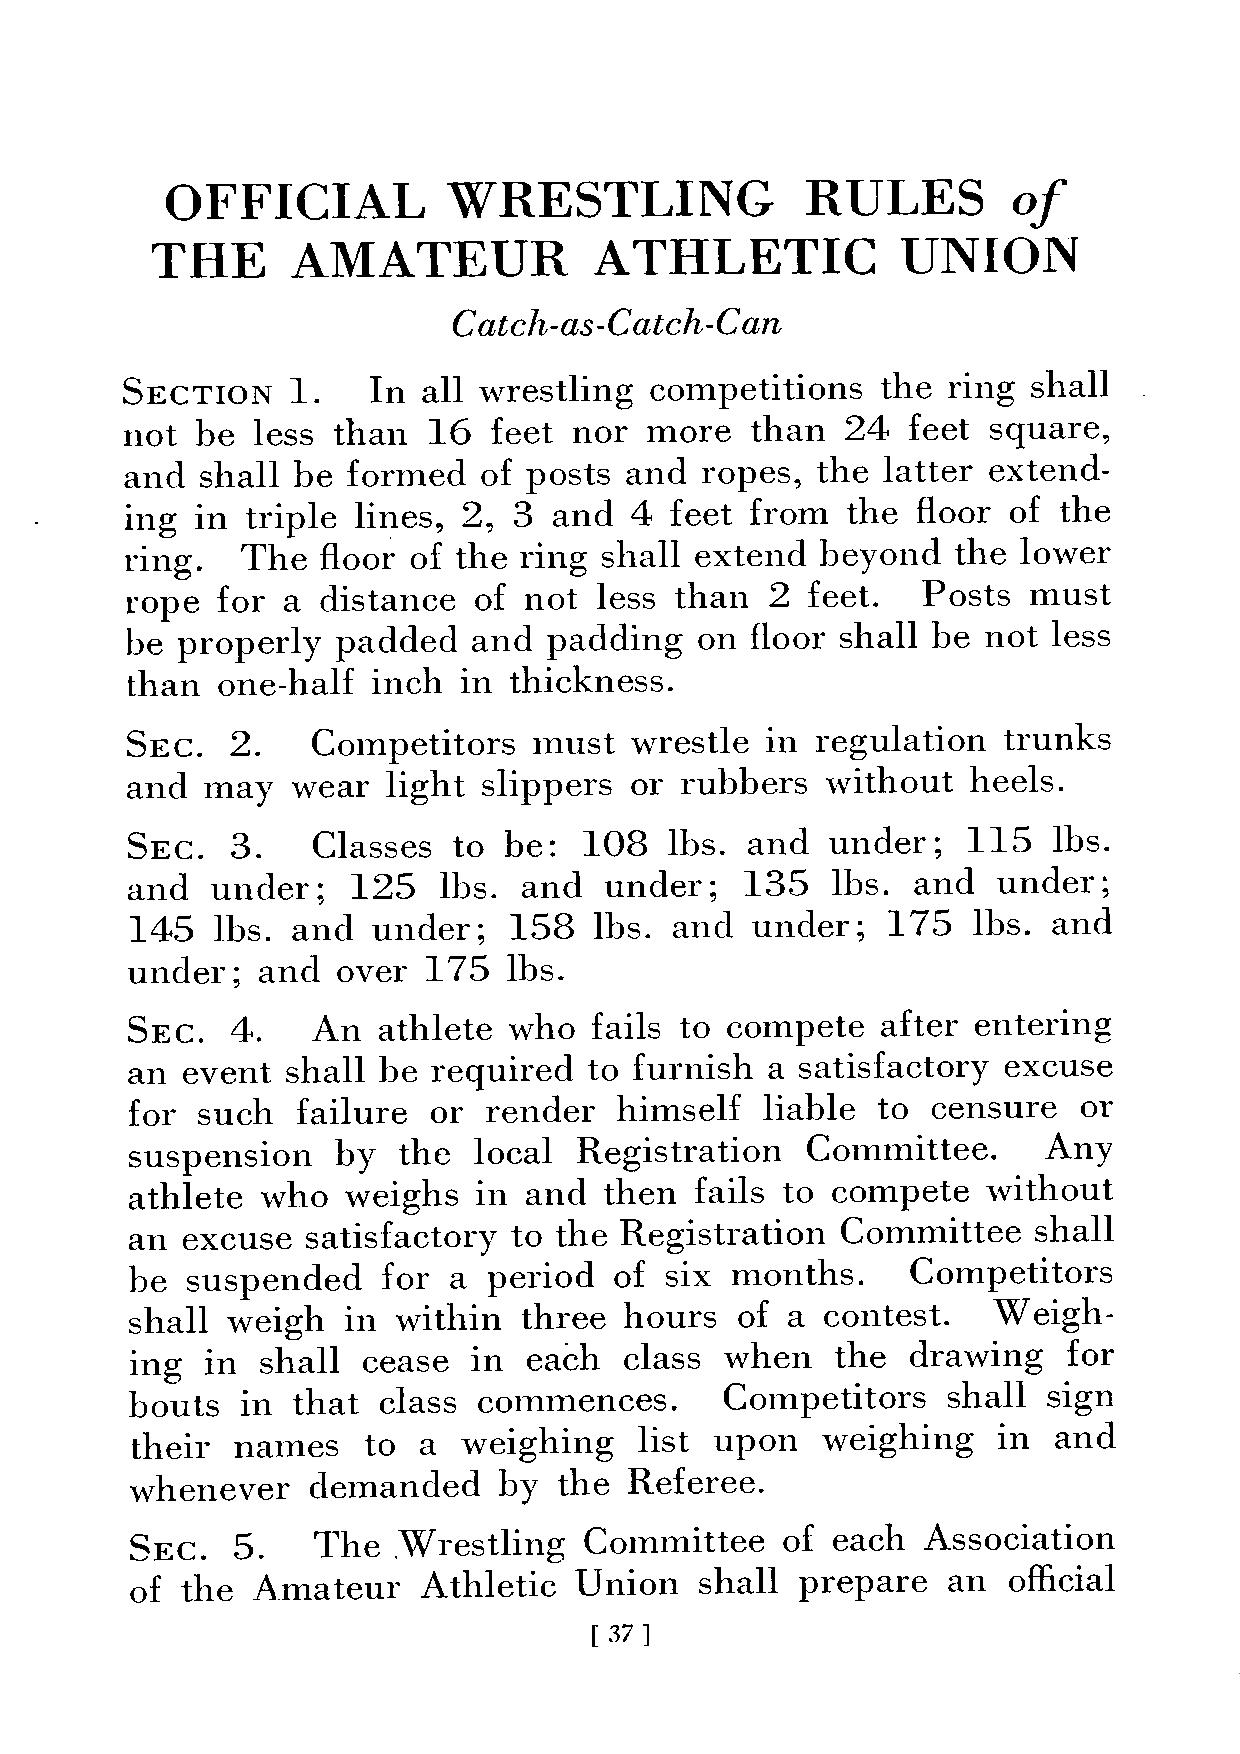chapter: (148, 174, 1080, 338)
content: (118, 368, 1121, 1606)
content_pagenumber: (605, 1618, 633, 1651)
